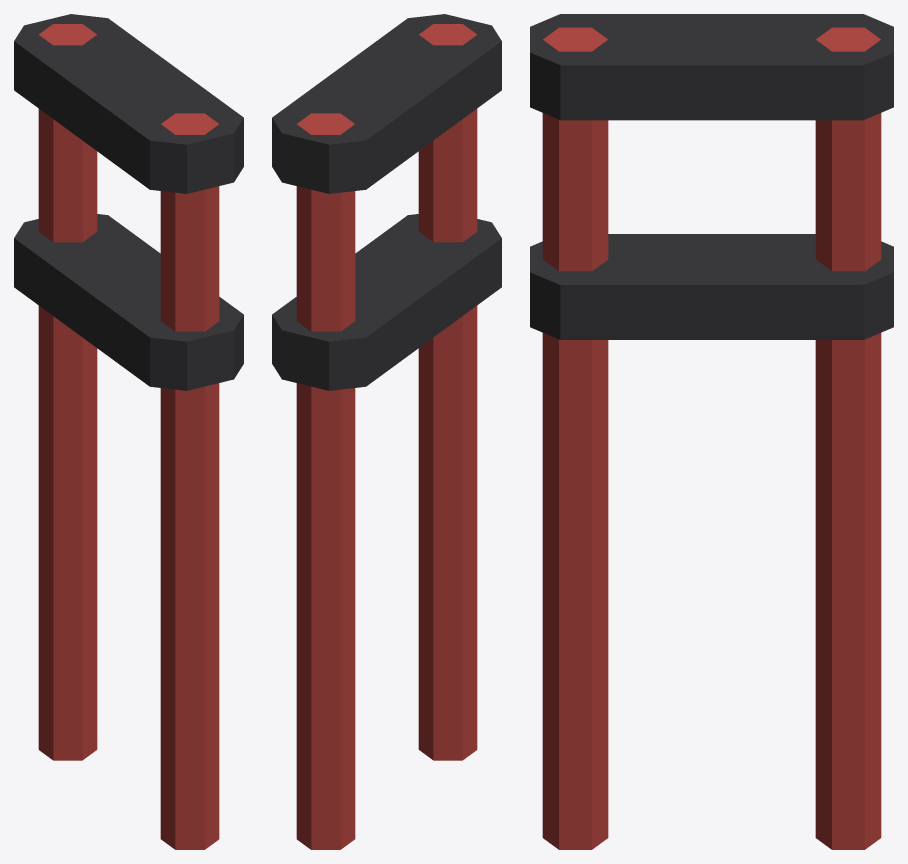
The model's file is chopper_extended_tube_upper_lod2.glb.
3 views of the same model, side by side, from view 1: azimuth 30°, elevation 25°; view 2: azimuth 150°, elevation 25°; view 3: azimuth 270°, elevation 25° (orthographic). The views are drawn at different scales.
Visible parts, largest first — view 1: chopper_extended_tube_upper_lod2; view 2: chopper_extended_tube_upper_lod2; view 3: chopper_extended_tube_upper_lod2.
Part boxes in pixels (x1,y1,x2,y2): chopper_extended_tube_upper_lod2: (14,14,243,849); chopper_extended_tube_upper_lod2: (272,14,501,849); chopper_extended_tube_upper_lod2: (530,14,893,849).
Size of the model in its own units: 0.08 by 0.581 by 0.24.
